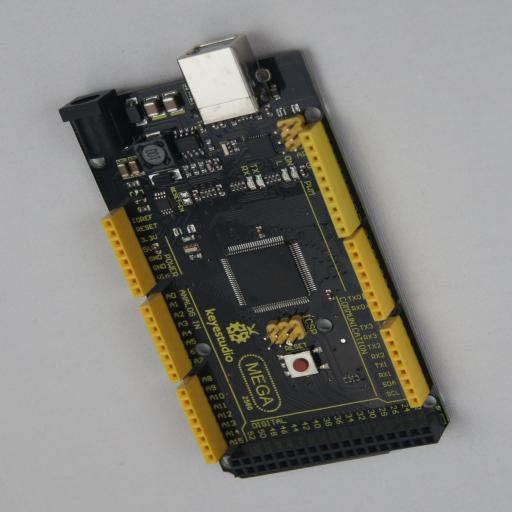Arduino Mega 2560 -Black and Yellow-: (59, 36, 451, 478)
